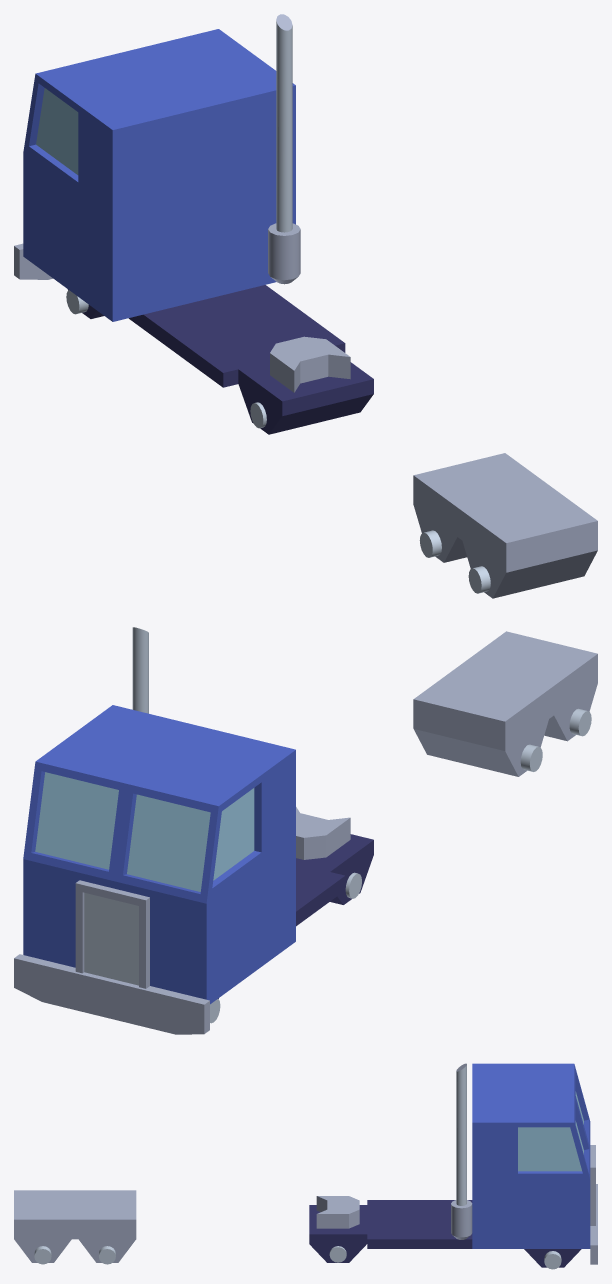
The model's file is Truck.fbx.
The picture shows the model from 3 angles, top to bottom: view 1: azimuth 30°, elevation 25°; view 2: azimuth 150°, elevation 25°; view 3: azimuth 270°, elevation 25°; orthographic projection. The views are drawn at different scales.
Parts seen in each view (by area): view 1: Cab, TrailerSkeleton, CabSkeleton, Smoker, Hitch; view 2: Cab, TrailerSkeleton, CabBumper, CabSkeleton, Hitch, Smoker; view 3: Cab, TrailerSkeleton, CabSkeleton, Smoker, Hitch, CabBumper.
Part boxes in pixels (box(x1,y1,x2,y2)): Cab: box(23, 29, 295, 321); TrailerSkeleton: box(413, 453, 597, 598); CabSkeleton: box(68, 285, 373, 434); Smoker: box(268, 14, 300, 284); Hitch: box(270, 336, 350, 392); Cab: box(23, 705, 295, 1004); TrailerSkeleton: box(413, 631, 597, 776); CabBumper: box(14, 954, 209, 1034); CabSkeleton: box(218, 834, 373, 998); Hitch: box(296, 807, 350, 859); Smoker: box(132, 627, 148, 713); Cab: box(472, 1063, 595, 1248); TrailerSkeleton: box(14, 1190, 136, 1262); CabSkeleton: box(309, 1200, 581, 1267); Smoker: box(451, 1063, 472, 1239); Hitch: box(316, 1196, 359, 1228); CabBumper: box(590, 1184, 597, 1264).
Bounding box in the file's own units: 6.75 × 10.64 × 27.2.
